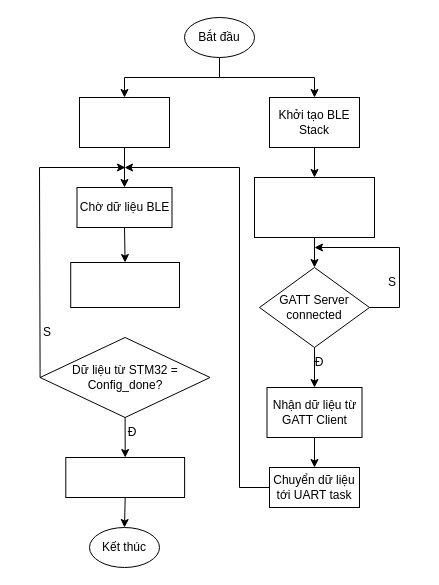
Image size: 439x585. Some labels were removed from this diagram. The box of each missing label's shape, as (x1, y1, x2, y2) in pixels:
Chuyển dữ liệu BLE xuống MCU STM32: (70, 262, 180, 308)
Cấu hình thông số BLE: UUID, Char UUID, GATT Server name...: (254, 176, 374, 238)
Gửi dữ liệu đo được lên GATT Client: (65, 456, 185, 498)
Khởi tạo system, UART task: (78, 96, 170, 148)
